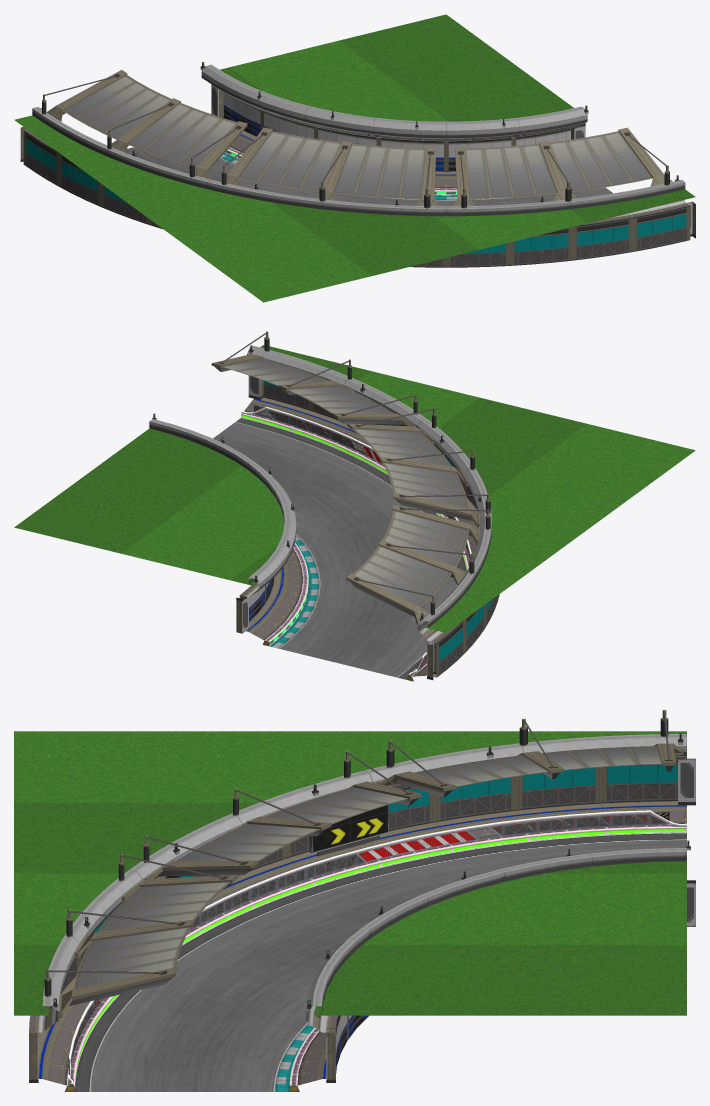
The model's file is T5 - Right.fbx.
3 views of the same model, one above another, from view 1: azimuth 30°, elevation 25°; view 2: azimuth 150°, elevation 25°; view 3: azimuth 270°, elevation 25° (orthographic). The views are drawn at different scales.
Visible parts, largest first — view 1: standard_ground_grass2, trenchwalls, arch_half_8, arch_half_7, arch_half_6, drift_road; view 2: standard_ground_grass2, drift_road, trenchwalls, arch_half_6, arch_half_8, arch_half_7, standard_arrow_right; view 3: standard_ground_grass2, trenchwalls, drift_road, arch_half_7, arch_half_8, standard_arrow_right, arch_half_6, prop_billboard_right.
Part boxes in pixels (x1,y1,x2,y2): standard_ground_grass2: (14,14,695,302); trenchwalls: (20,64,695,267); arch_half_8: (220,127,439,208); arch_half_7: (453,127,672,208); arch_half_6: (42,70,247,179); drift_road: (127,147,612,206); standard_ground_grass2: (14,345,695,632); drift_road: (213,418,466,679); trenchwalls: (149,345,499,681); arch_half_6: (346,504,490,627); arch_half_8: (347,407,490,527); arch_half_7: (211,331,417,426); standard_arrow_right: (241,405,471,675); standard_ground_grass2: (14,731,686,1015); trenchwalls: (29,734,695,1091); drift_road: (75,833,686,1091); arch_half_7: (44,853,238,1017); arch_half_8: (143,751,421,880); standard_arrow_right: (68,810,686,1085); arch_half_6: (377,710,683,796); prop_billboard_right: (309,804,388,856).
Bounding box in the file's own units: 12969 × 2380 × 12970.
